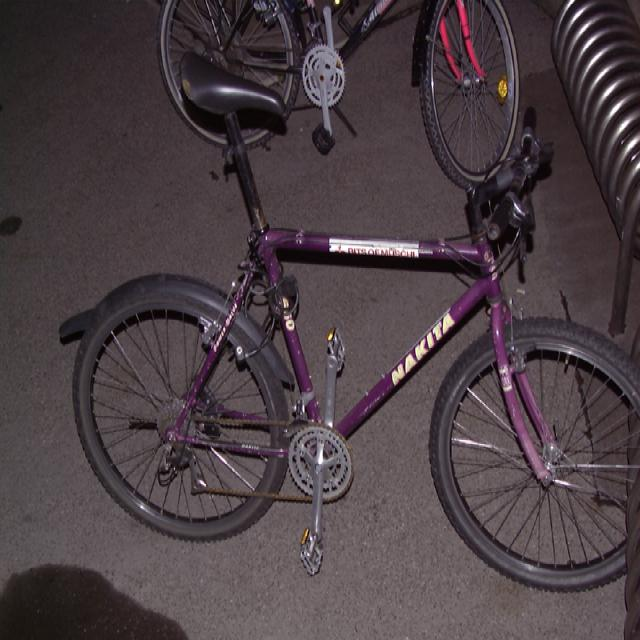bicycle: (58, 48, 639, 592), (156, 0, 520, 189)
